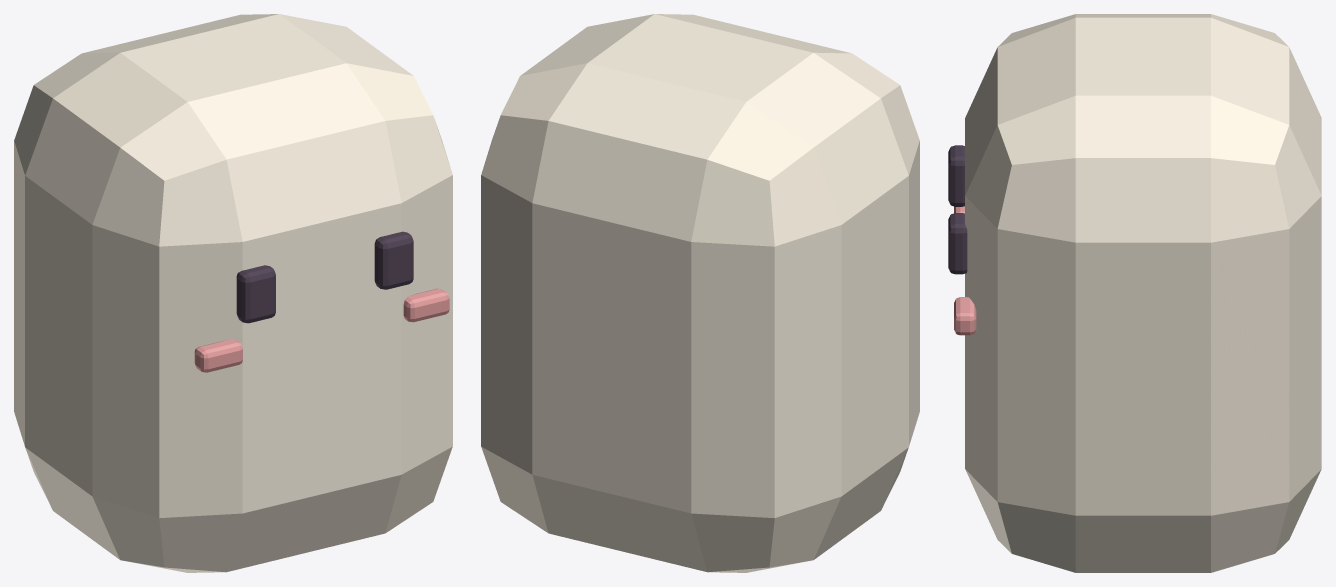
File: prop_hantu.fbx
The picture shows the model from 3 angles, left to right: view 1: azimuth 30°, elevation 25°; view 2: azimuth 150°, elevation 25°; view 3: azimuth 270°, elevation 25°; orthographic projection.
Parts seen in each view (by area): view 1: prop_hantu; view 2: prop_hantu; view 3: prop_hantu.
Boxes of the visible parts, bbox=[...] form: prop_hantu: bbox=[14, 14, 452, 572]; prop_hantu: bbox=[481, 14, 919, 572]; prop_hantu: bbox=[948, 14, 1321, 572].
Size of the model in its own units: 66 by 85 by 60.75.
1 material, 1 textured.
